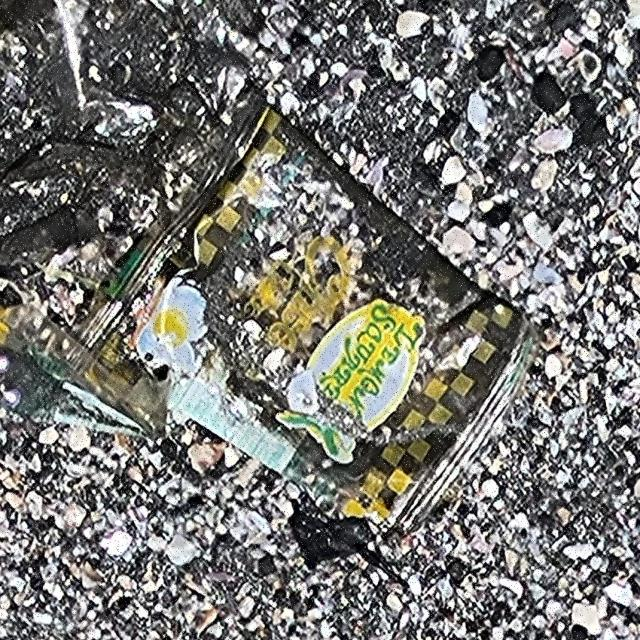plastic_waste: (76, 89, 544, 535)
